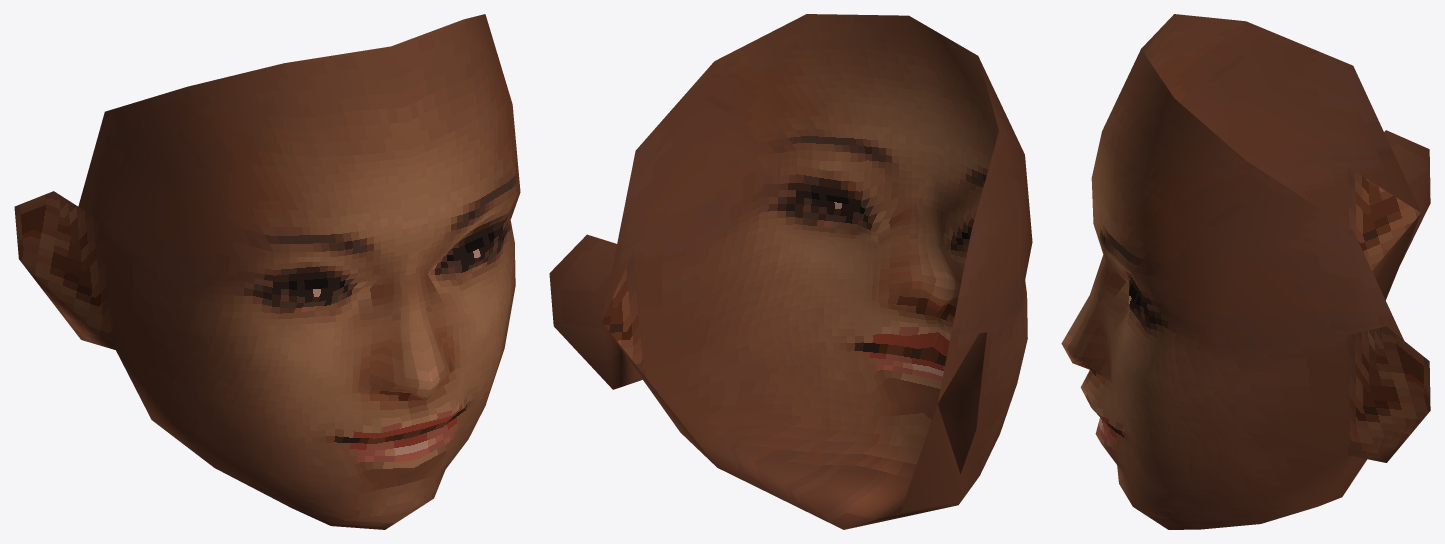
The picture shows the model from 3 angles, left to right: view 1: azimuth 30°, elevation 25°; view 2: azimuth 150°, elevation 25°; view 3: azimuth 270°, elevation 25°; orthographic projection. The views are drawn at different scales.
Bounding box in the file's own units: 19.4 × 20.02 × 14.28.
1 material, 1 textured.
